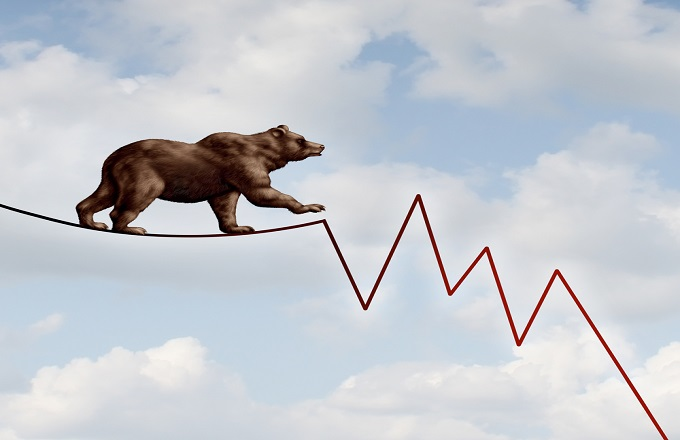bear: (267, 120, 328, 163)
